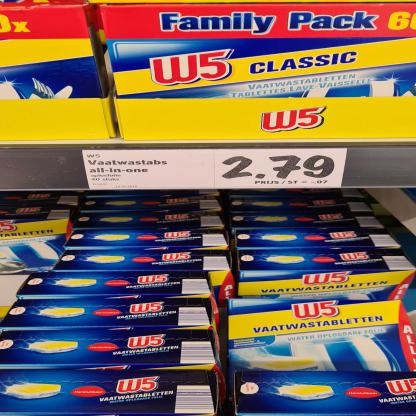prtg: (83, 149, 349, 190)
